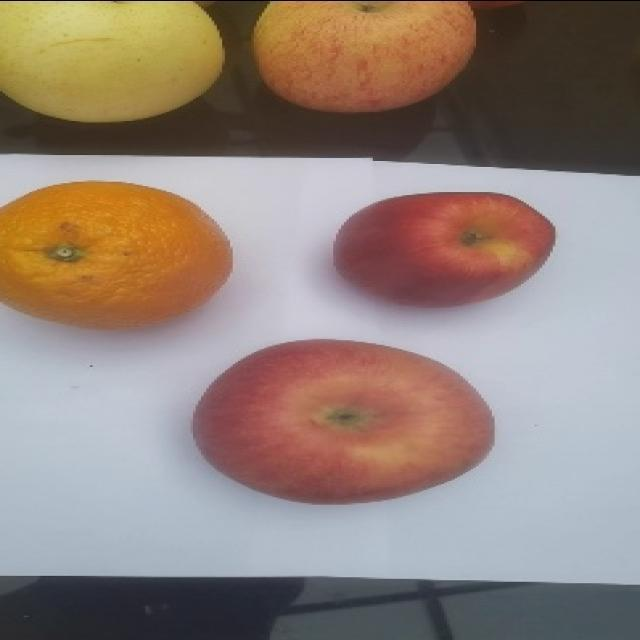Apple: (184, 336, 500, 507), (335, 184, 557, 316), (253, 0, 482, 120)
Orange: (0, 175, 235, 329)
